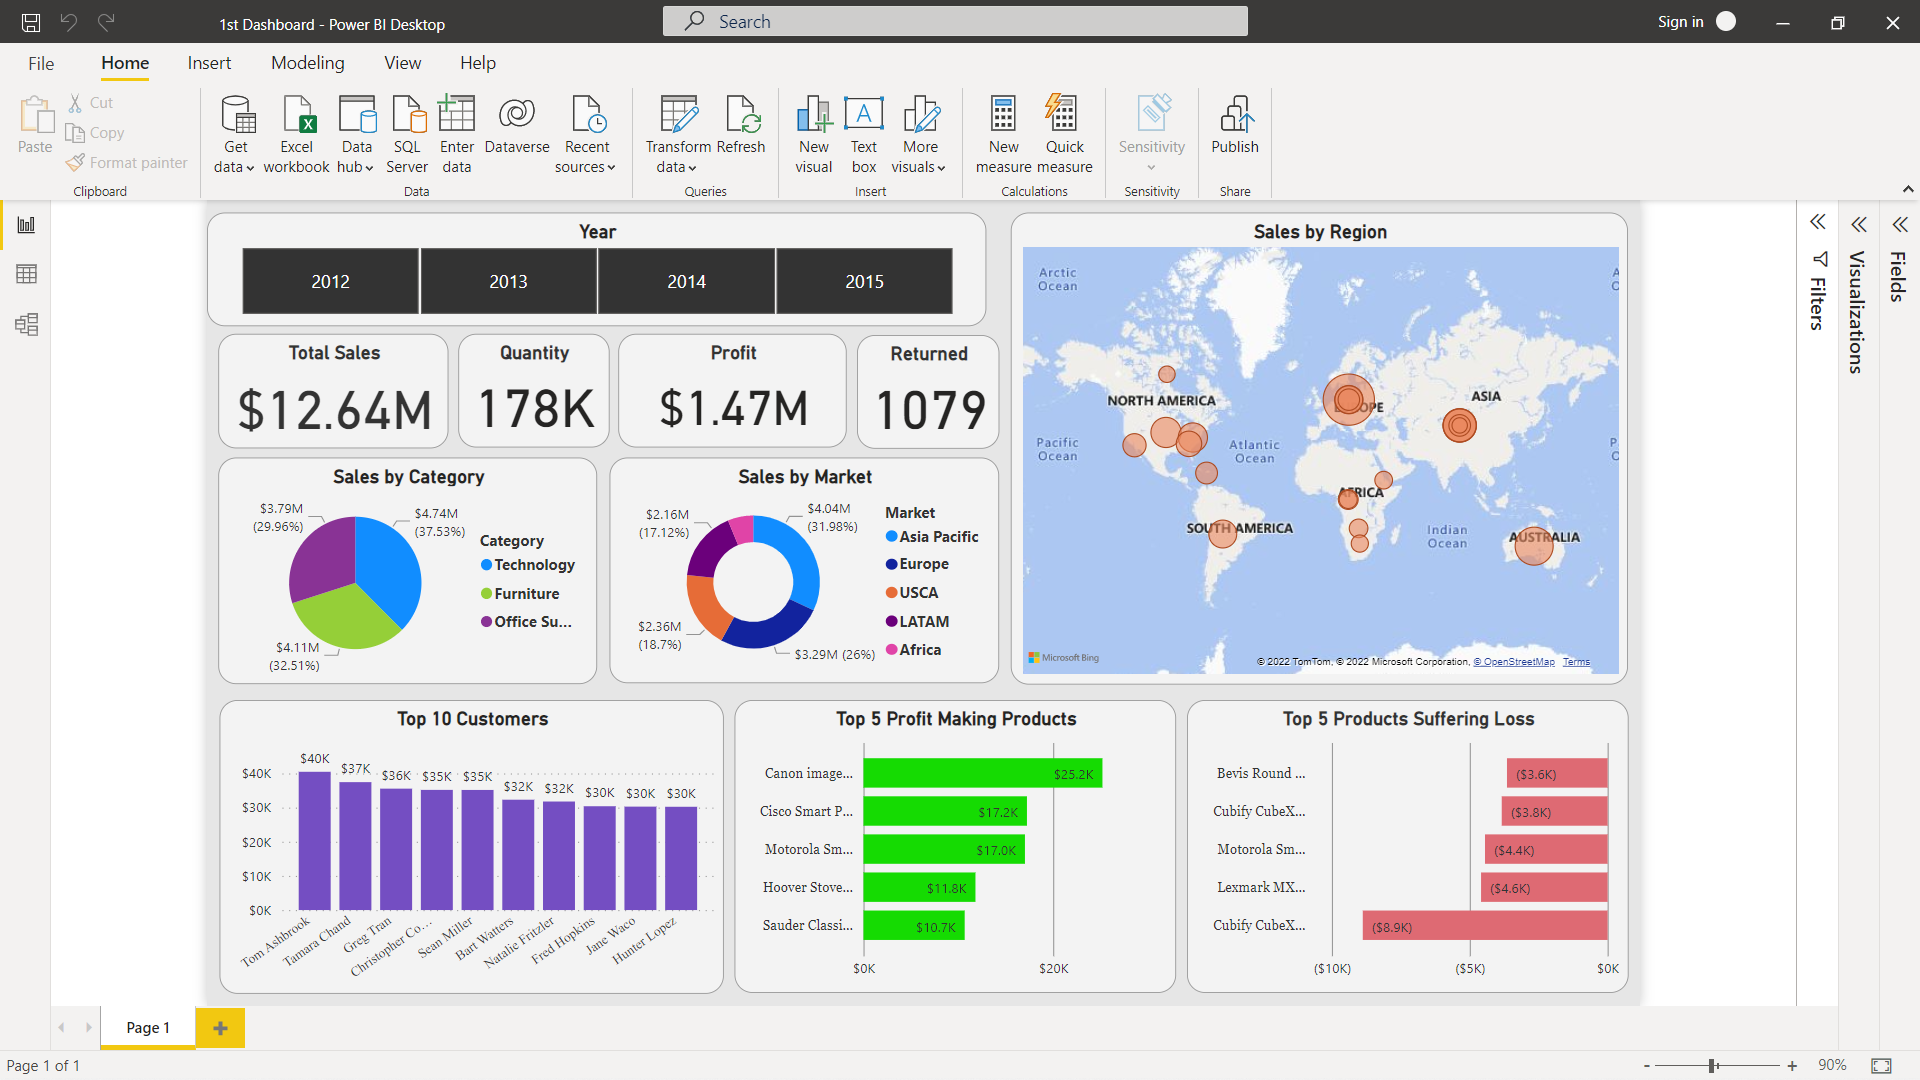

What the dashboard file says about the page in this screenshot:
{"tool":"powerbi","page":{"name":"Page 1","canvas":[1280,720],"ordinal":0},"visuals":[{"type":"slicer","title":"Year","fields":{"Values":["Orders.Order Date.Variation.Date Hierarchy.Year"]},"box":[11.6,11.6,695.9,101.2],"z":0},{"type":"card","title":"Total Sales","fields":{"Values":["Orders.Sales"]},"box":[10.5,119.9,206,102.4],"z":1000},{"type":"card","title":"Quantity","fields":{"Values":["Orders.Quantity"]},"box":[224.6,119.9,135,101.2],"z":2000},{"type":"map","fields":{"Size":["Orders.Sales"],"Category":["Orders.Region"]},"box":[718,11.6,551.6,421.2],"z":3000},{"type":"card","title":"Profit","fields":{"Values":["Orders.Profit"]},"box":[367.3,119.4,204.3,101.6],"z":4000},{"type":"clusteredBarChart","title":"Top 5 Products Suffering Loss","fields":{"Y":["Orders.Profit"],"Category":["Orders.Product Name"]},"box":[875.1,446.8,394.5,261.8],"z":5000},{"type":"clusteredBarChart","title":"Top 5 Profit Making Products","fields":{"Y":["Orders.Profit"],"Category":["Orders.Product Name"]},"box":[471.3,446.8,394.5,261.8],"z":6000},{"type":"clusteredColumnChart","title":"Top 10 Customers","fields":{"Category":["Orders.Customer Name"],"Y":["Orders.Sales"]},"box":[11,446.4,450.5,262.3],"z":7000},{"type":"pieChart","fields":{"Y":["Orders.Sales"],"Category":["Orders.Category"]},"box":[10.5,230.4,338.6,202.5],"z":8000},{"type":"donutChart","fields":{"Y":["Orders.Sales"],"Category":["Orders.Market"]},"box":[359.6,230.4,347.9,201.3],"z":9000},{"type":"card","title":"Returned","fields":{"Values":["Returns.Custom"]},"box":[580.5,120.6,127.3,101.6],"z":10000}]}

Visuals, with their boxes on the page's 1280x720 design canvas (x1, y1, x2, y2). These are canvas units, not pixel positions in the 1920x1080 screenshot, which may show the page scaled, cropped or inside an application window:
"Year" slicer: [12,12,708,113]
"Total Sales" card: [10,120,216,222]
"Quantity" card: [225,120,360,221]
map - Orders.Sales x Orders.Region: [718,12,1270,433]
"Profit" card: [367,119,572,221]
"Top 5 Products Suffering Loss" clusteredBarChart: [875,447,1270,709]
"Top 5 Profit Making Products" clusteredBarChart: [471,447,866,709]
"Top 10 Customers" clusteredColumnChart: [11,446,462,709]
pieChart - Orders.Sales x Orders.Category: [10,230,349,433]
donutChart - Orders.Sales x Orders.Market: [360,230,708,432]
"Returned" card: [580,121,708,222]
